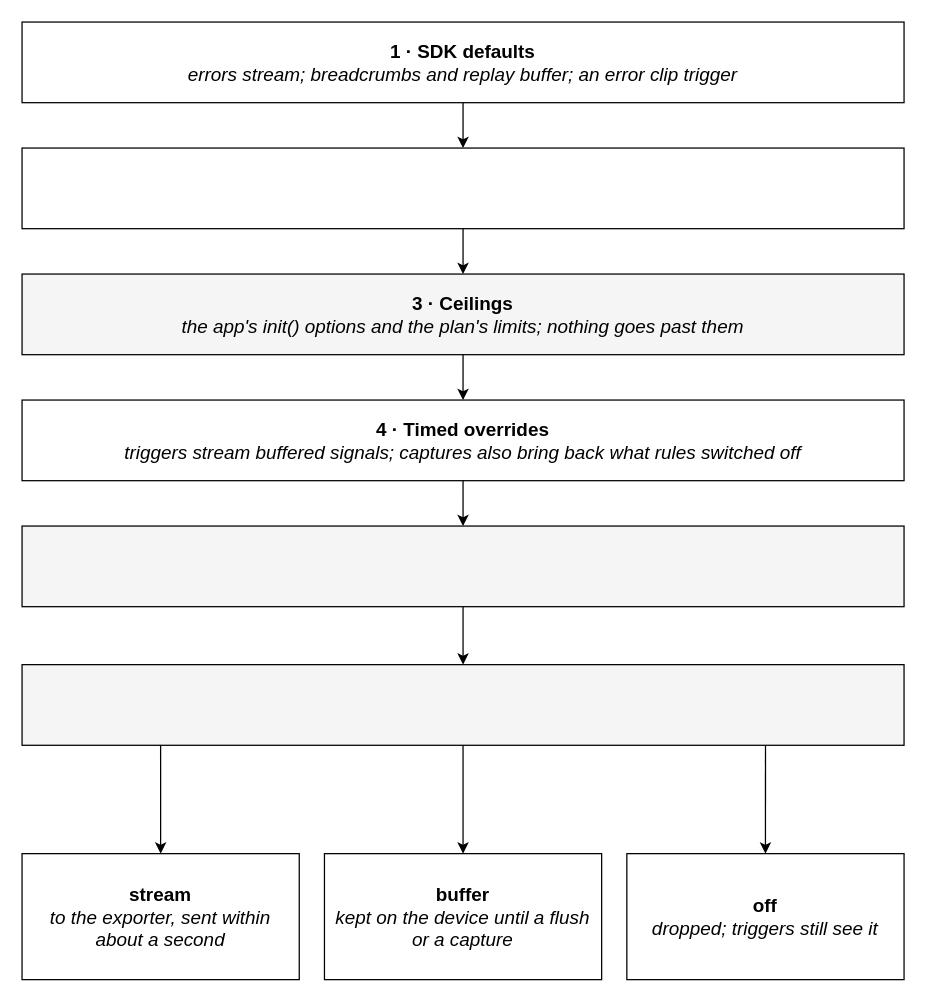
The diagram is 926 pixels wide and 1002 high, and some of its shapes have lost their labels. The shapes that lost their labels are listed below. From the top down, each one's box as (x1, y1, x2, y2) in pixels, then its label:
(21, 147, 904, 229): 2 · Rules every rule matching this client, in order; a later rule wins
(21, 525, 904, 607): 5 · Kill switch a rule with enabled: false turns everything off
(21, 663, 904, 745): Effective mode of each signal looked up again for every record
